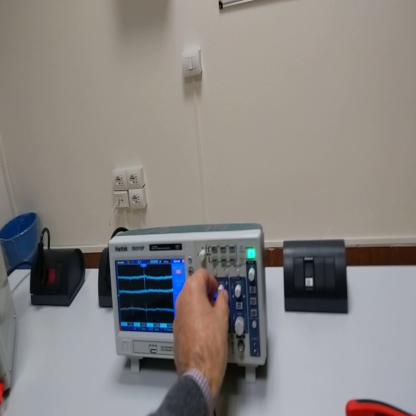hand: (173, 268, 230, 393)
oscilloscope: (109, 224, 267, 385)
pliers: (346, 399, 416, 416)
power supply: (2, 241, 18, 402)
socket: (30, 247, 88, 309), (98, 249, 113, 310)
